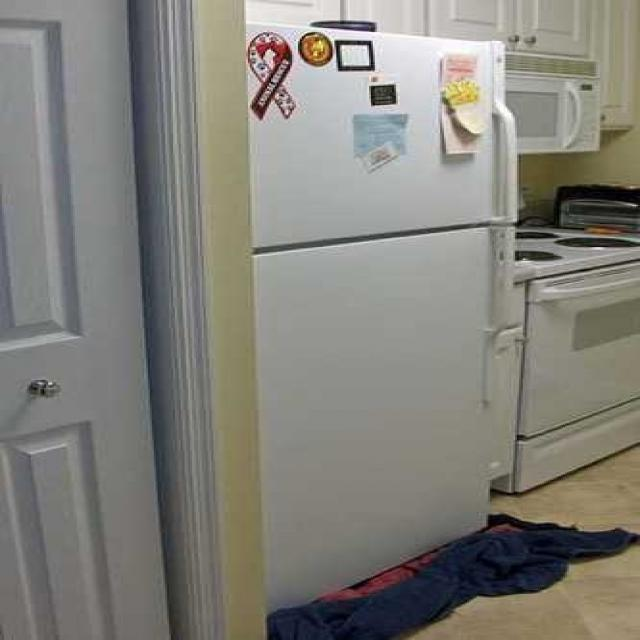refrigerator: (242, 19, 522, 610)
